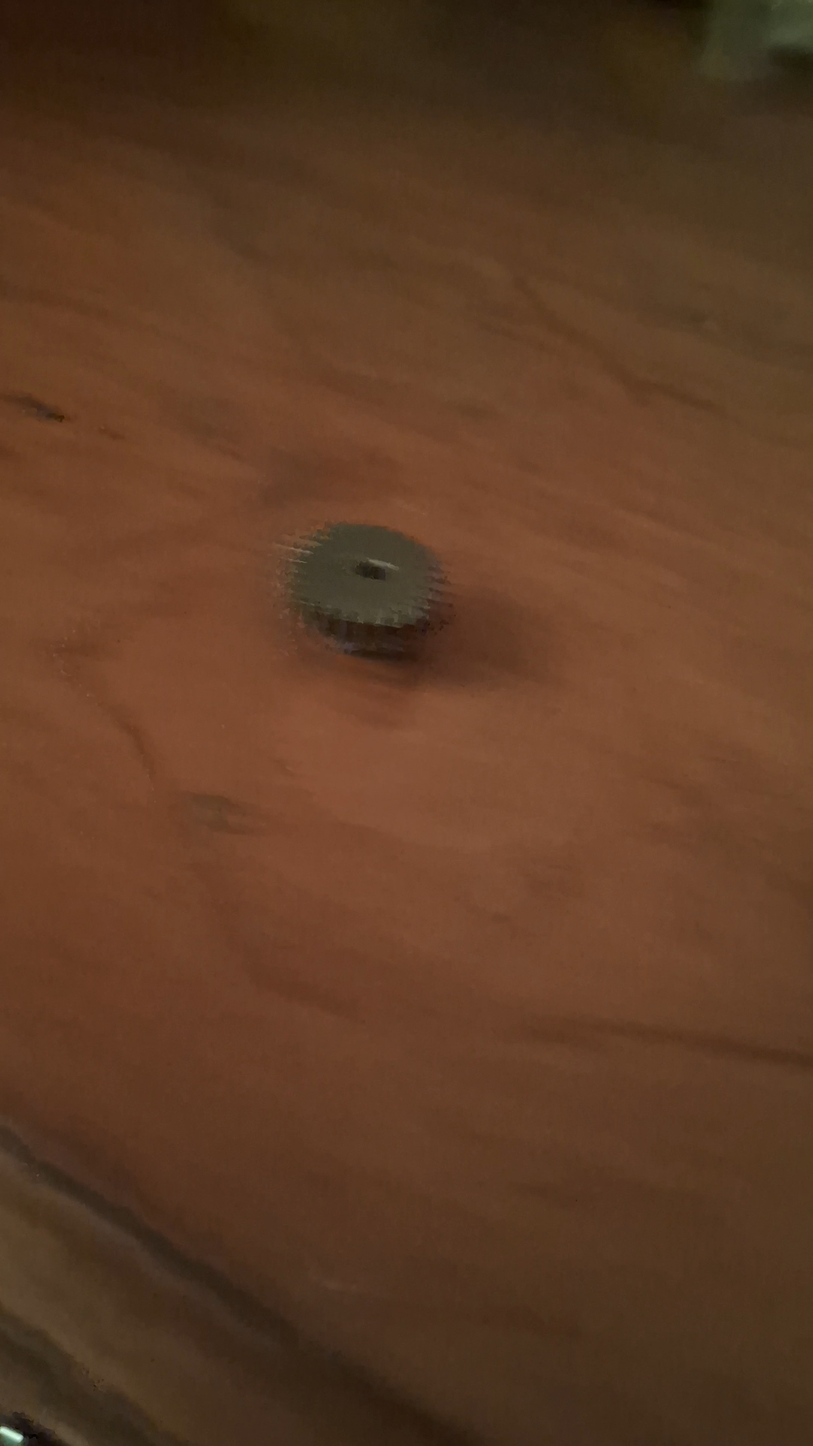spur gear: (286, 523, 445, 657)
